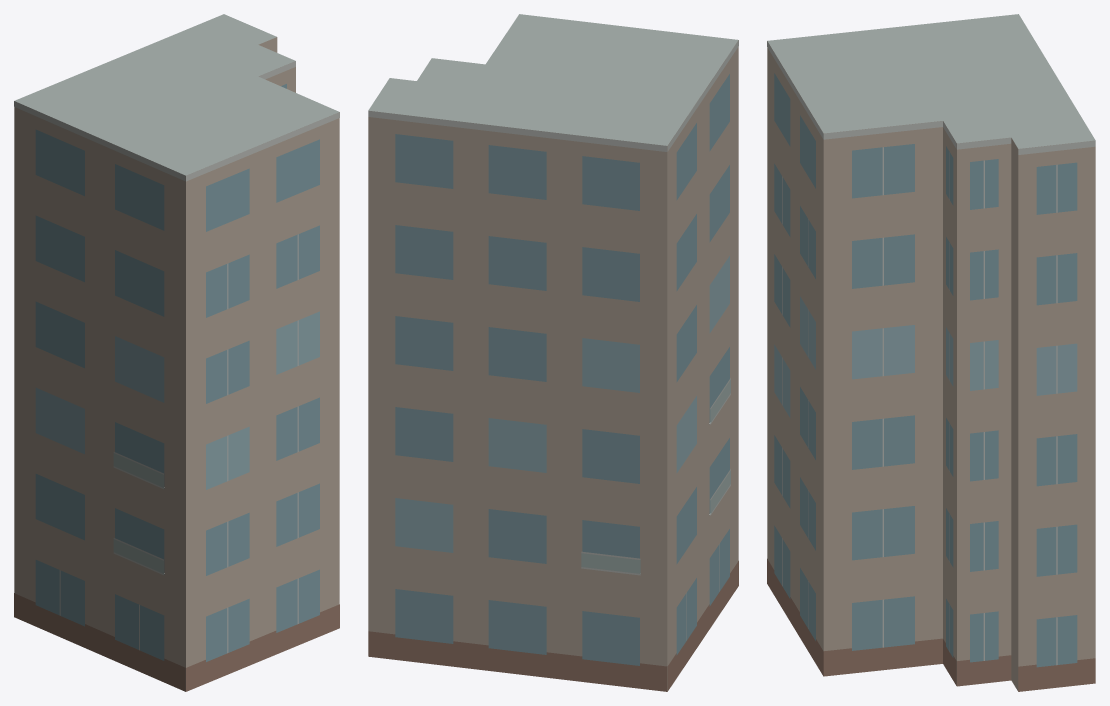
Rendered from survey-upis-32644965.glb.
3 views of the same model, side by side, from view 1: azimuth 30°, elevation 25°; view 2: azimuth 150°, elevation 25°; view 3: azimuth 270°, elevation 25° (orthographic). The views are drawn at different scales.
Parts seen in each view (by area): view 1: survey-upis-32644965.tmp; view 2: survey-upis-32644965.tmp; view 3: survey-upis-32644965.tmp.
Boxes of the visible parts, x1,y1,x2,y2 form: survey-upis-32644965.tmp: (14, 14, 339, 691); survey-upis-32644965.tmp: (368, 14, 738, 691); survey-upis-32644965.tmp: (767, 14, 1095, 691).
Size of the model in its own units: 11.42 by 21.4 by 11.74.
